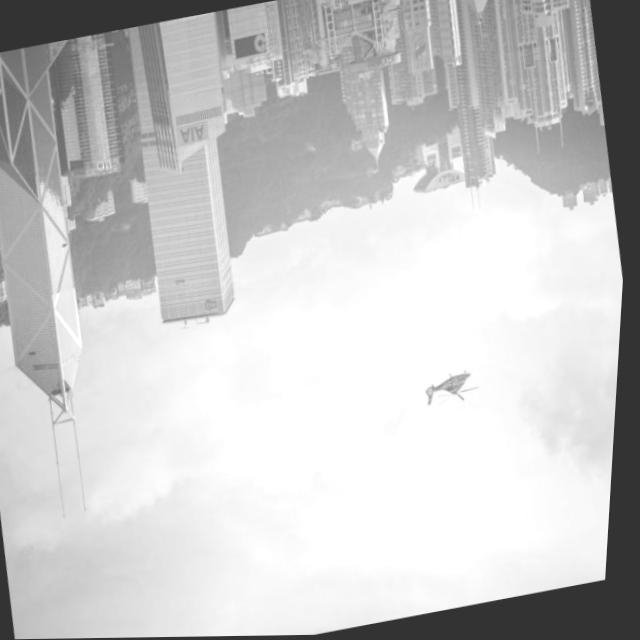helikopter: (403, 334, 522, 438)
